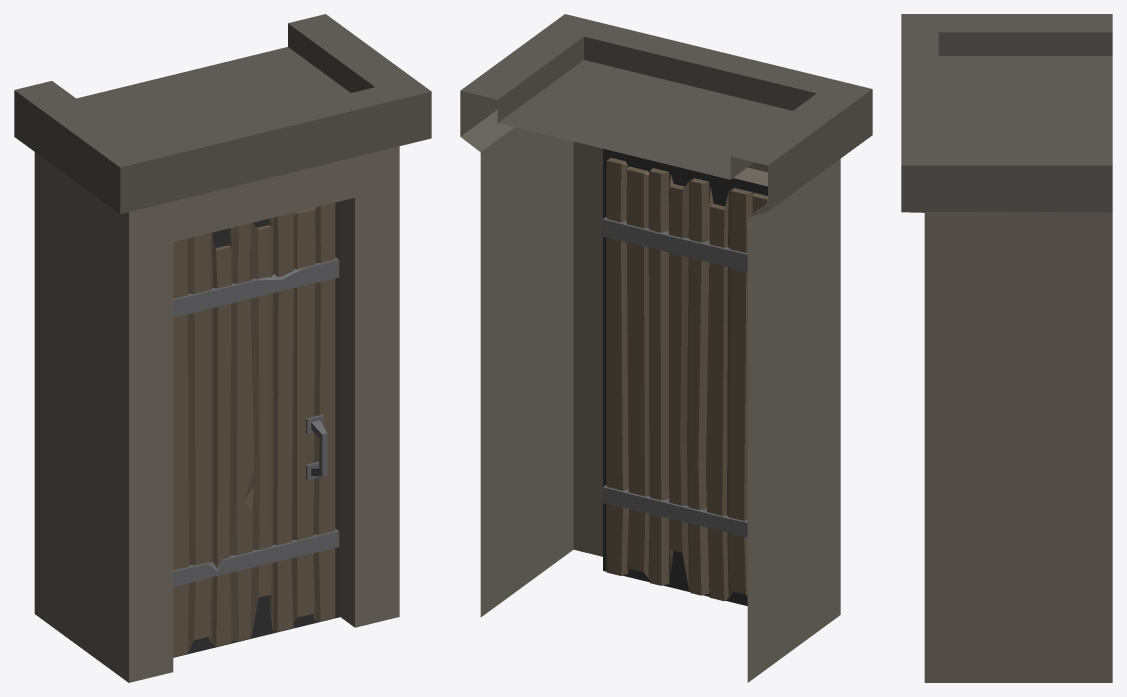
File: SM_Bld_Fort_Door_03.glb
3 views of the same model, side by side, from view 1: azimuth 30°, elevation 25°; view 2: azimuth 150°, elevation 25°; view 3: azimuth 270°, elevation 25° (orthographic).
Visible parts, largest first — view 1: SM_Bld_Fort_Door_03; view 2: SM_Bld_Fort_Door_03; view 3: SM_Bld_Fort_Door_03.
Part boxes in pixels (x1,y1,x2,y2): SM_Bld_Fort_Door_03: [14, 14, 431, 682]; SM_Bld_Fort_Door_03: [460, 14, 872, 682]; SM_Bld_Fort_Door_03: [901, 14, 1112, 682].
Size of the model in its own units: 0.0148 by 0.024 by 0.00871.
1 material, 1 textured.
